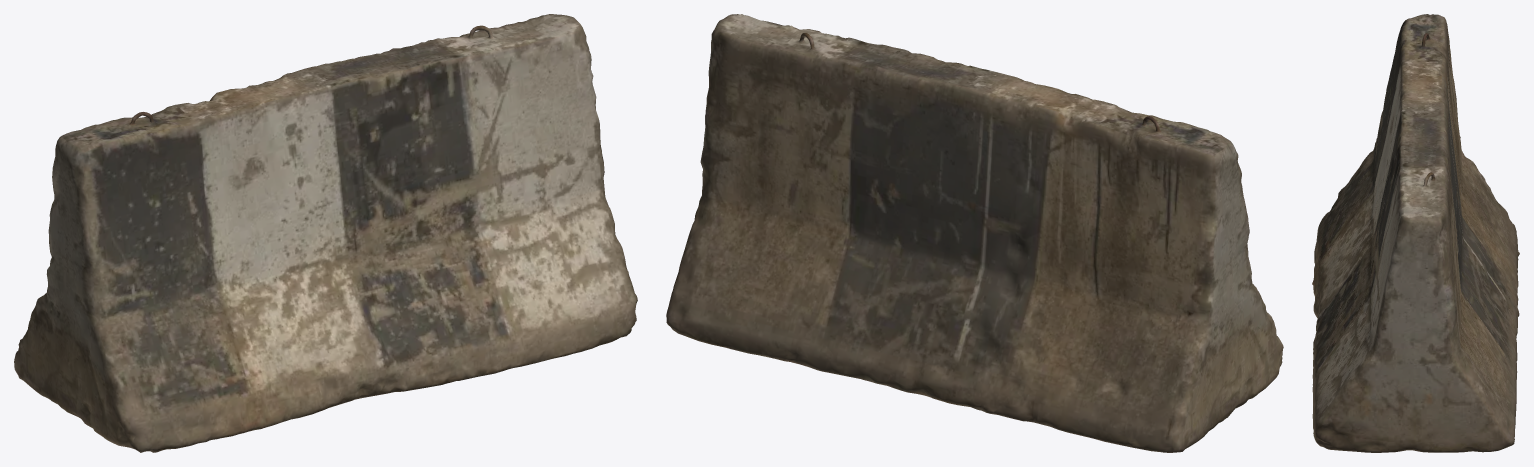
The model's file is concrete_road_barrier_lod1.glb.
The picture shows the model from 3 angles, left to right: view 1: azimuth 30°, elevation 25°; view 2: azimuth 150°, elevation 25°; view 3: azimuth 270°, elevation 25°; orthographic projection. The views are drawn at different scales.
Visible parts, largest first — view 1: concrete_road_barrier; view 2: concrete_road_barrier; view 3: concrete_road_barrier.
Part boxes in pixels (<box>): concrete_road_barrier: <box>14,14,637,452</box>; concrete_road_barrier: <box>666,14,1283,452</box>; concrete_road_barrier: <box>1312,14,1519,452</box>.
Size of the model in its own units: 1.54 by 0.8309 by 0.6387.
1 material, 1 textured.
